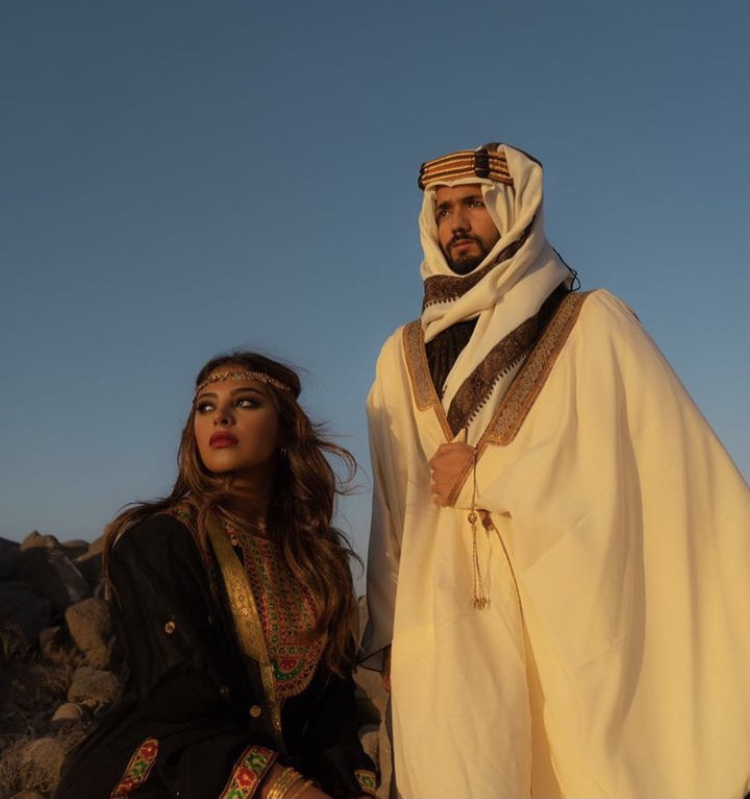Saudi_Founding_Day: (358, 139, 750, 799), (52, 349, 385, 799)
